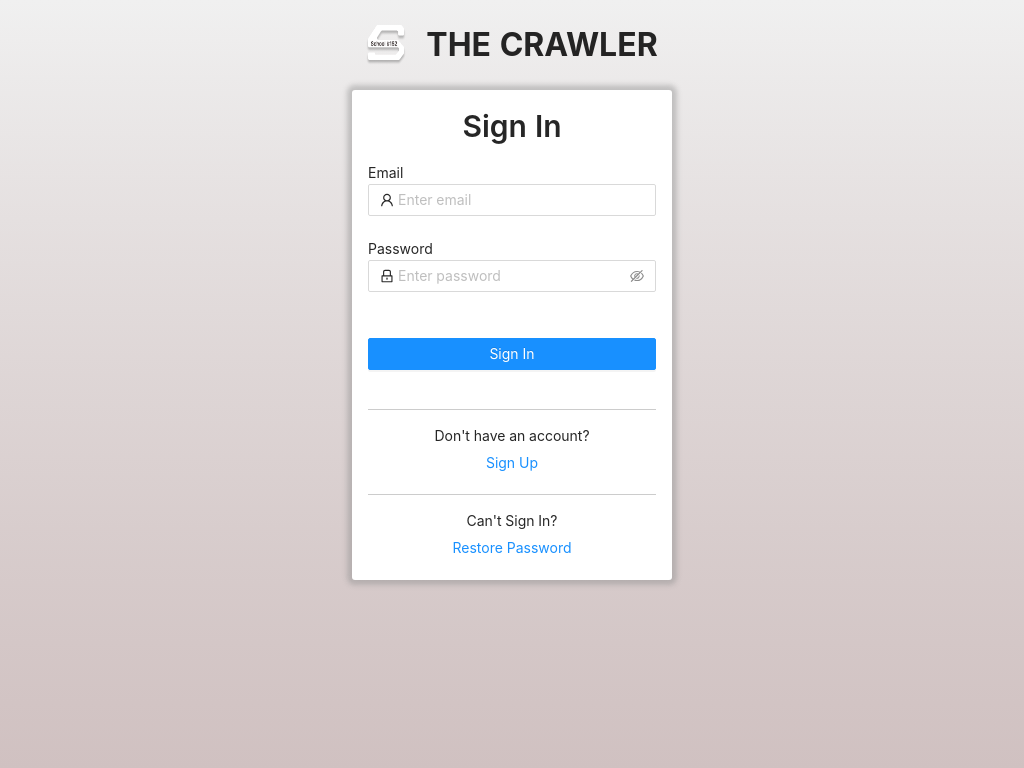
<SignIn /> render › Should render with error messages
The width and height of the screenshot is (1024, 768).
Click the button "Sign In" at point(512, 354), box [368, 338, 656, 370]
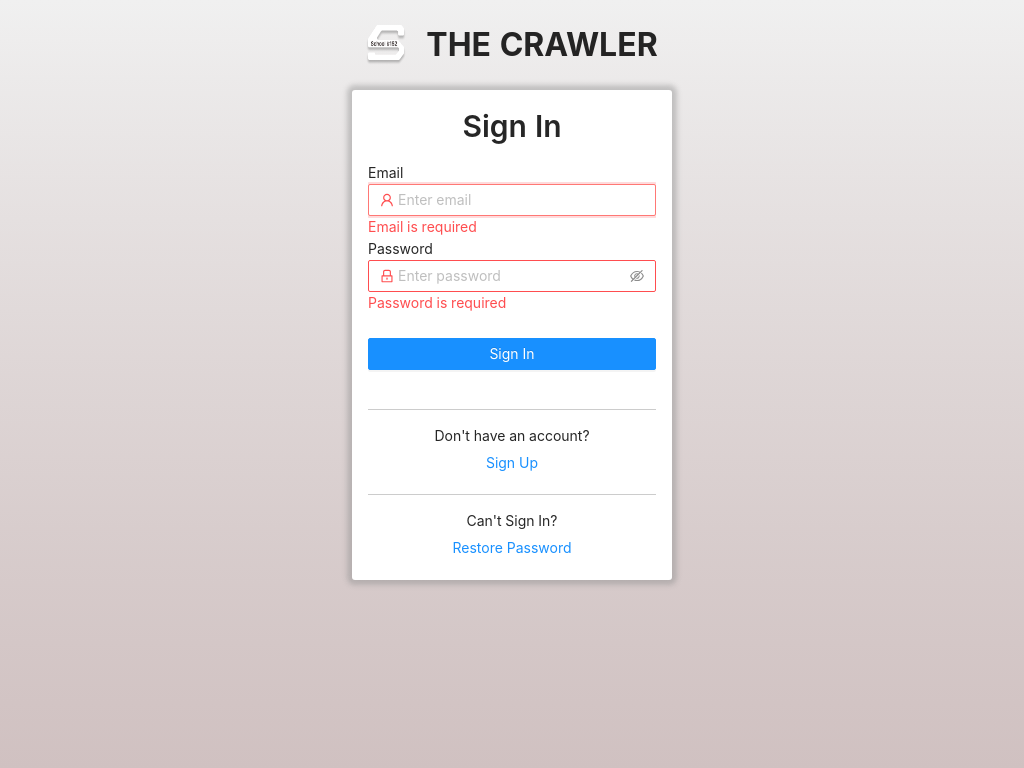
Check: the text "Email is required" is shown 2 times, box [368, 218, 477, 235]; [368, 294, 506, 311]
